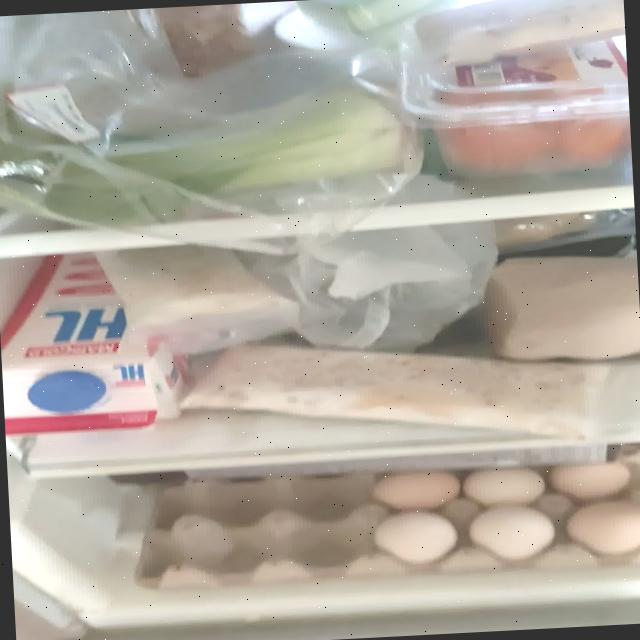egg: (126, 457, 640, 595)
pakchoy: (0, 81, 411, 235)
tempeh: (179, 325, 616, 460), (92, 238, 298, 330)
